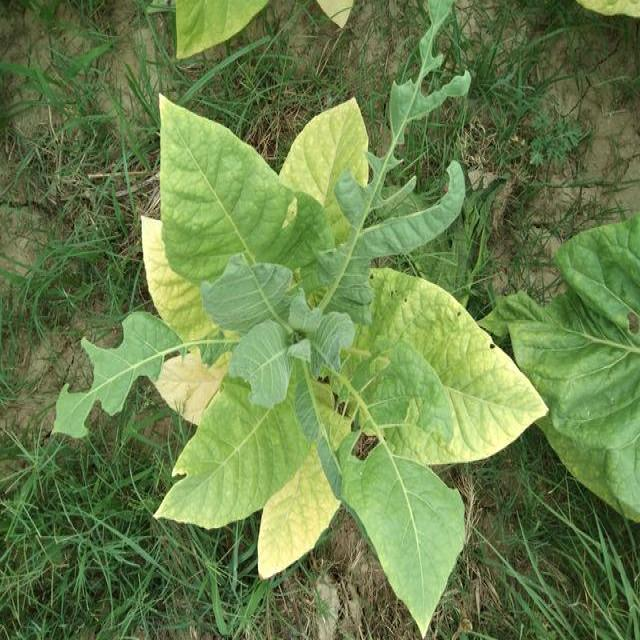crop: (123, 76, 549, 638)
